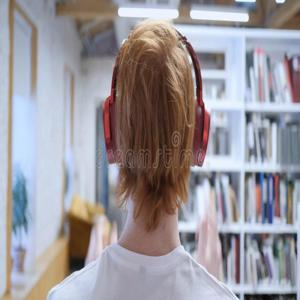Headphones: (101, 20, 211, 173)
